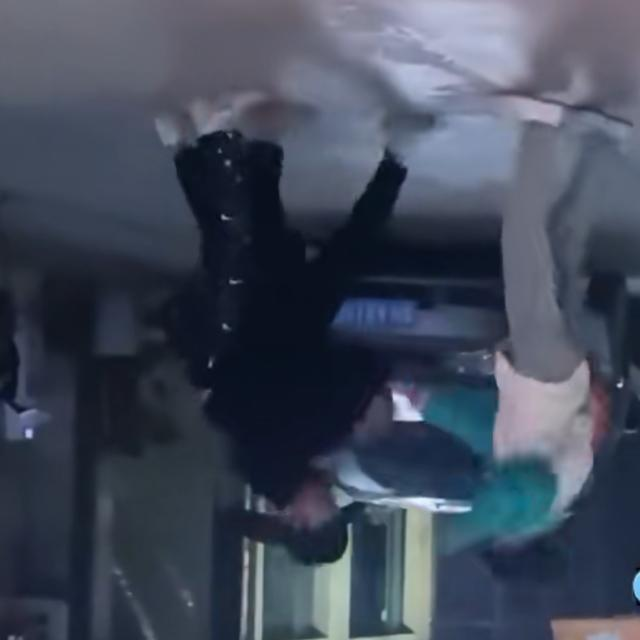nofight: (158, 73, 372, 564), (469, 65, 616, 592)
